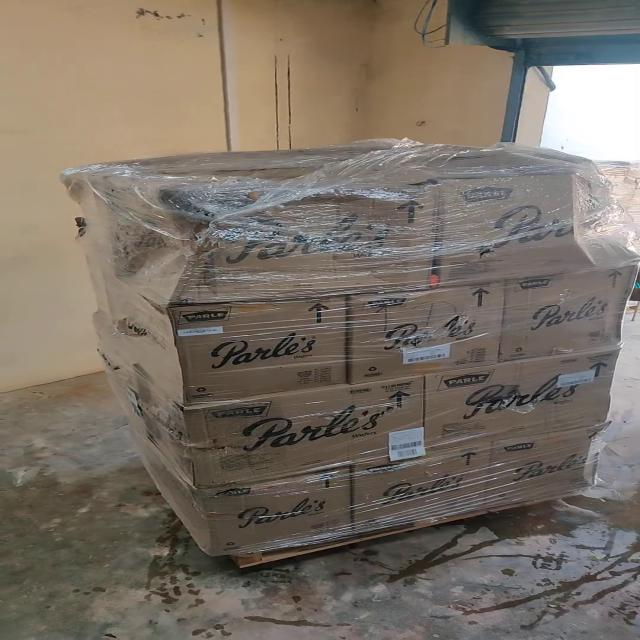squeeze: (104, 178, 436, 298), (581, 172, 634, 275)
tear: (462, 373, 569, 430)
